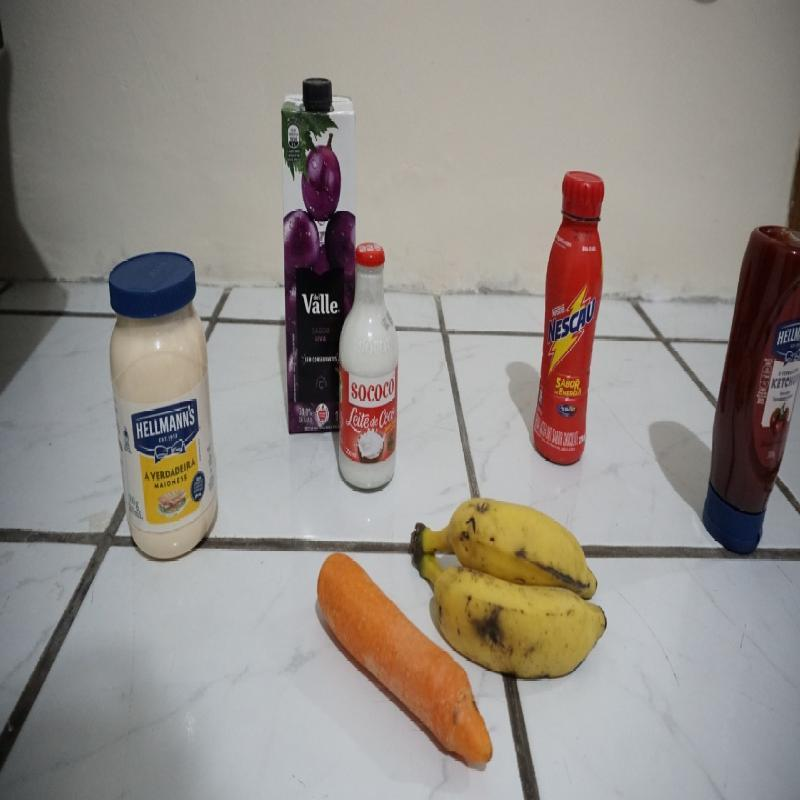Banana: (417, 485, 612, 673)
Carrot: (308, 537, 414, 732)
Chocolate Milk: (531, 169, 606, 478)
Coconut Milk: (336, 236, 398, 488)
Ketchup: (693, 221, 798, 563)
Mayonnaise: (104, 248, 219, 559)
